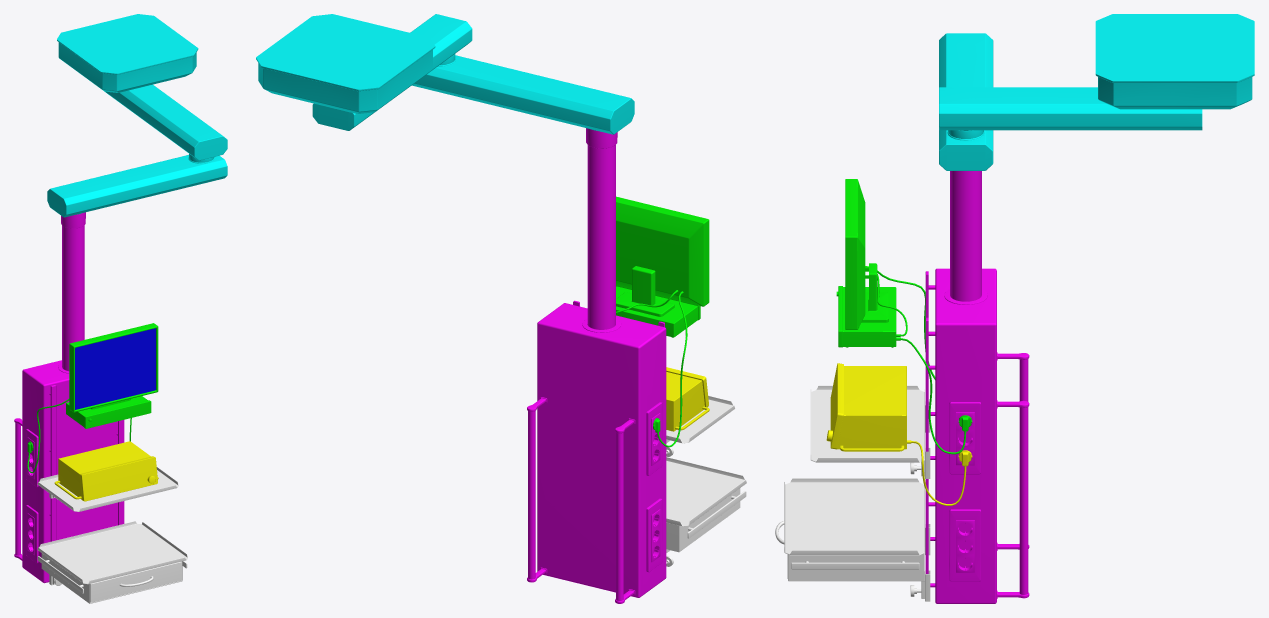
File: operating_console.fbx
3 renders of one model, left to right at view 1: azimuth 30°, elevation 25°; view 2: azimuth 150°, elevation 25°; view 3: azimuth 270°, elevation 25°, orthographic. The views are drawn at different scales.
Parts seen in each view (by area): view 1: operating_console_1, surveillance_monitor, operating_console_4, operating_box_shelf, operating_console_2, surveillance_apparatus, operating_console_3, operating_box, operating_shelf; view 2: operating_console_1, operating_console_4, surveillance_monitor, operating_console_2, operating_box_shelf, operating_console_3, surveillance_apparatus, operating_shelf; view 3: operating_console_1, operating_box_shelf, operating_console_4, operating_console_3, surveillance_apparatus, surveillance_monitor, operating_console_2, operating_shelf.
Part boxes in pixels (box(x1,y1,x2,y2)): operating_console_1: box(14, 212, 124, 583); surveillance_monitor: box(27, 323, 158, 473); operating_console_4: box(57, 14, 198, 92); operating_box_shelf: box(37, 521, 187, 603); operating_console_2: box(47, 154, 227, 217); surveillance_apparatus: box(54, 441, 158, 501); operating_console_3: box(104, 84, 227, 160); operating_box: box(90, 561, 181, 602); operating_shelf: box(37, 467, 178, 511); operating_console_1: box(527, 128, 666, 603); operating_console_4: box(256, 14, 435, 113); surveillance_monitor: box(616, 196, 709, 447); operating_console_2: box(412, 54, 634, 134); operating_box_shelf: box(666, 457, 746, 566); operating_console_3: box(312, 14, 472, 130); surveillance_apparatus: box(666, 367, 709, 431); operating_shelf: box(666, 396, 734, 456); operating_console_1: box(925, 171, 1029, 603); operating_box_shelf: box(784, 478, 930, 601); operating_console_4: box(1095, 14, 1254, 109); operating_console_3: box(939, 87, 1202, 130); surveillance_apparatus: box(826, 363, 972, 505); surveillance_monitor: box(836, 179, 972, 454); operating_console_2: box(939, 33, 993, 170); operating_shelf: box(810, 385, 930, 478).
Bounding box in the file's own units: 109 × 198 × 139.
